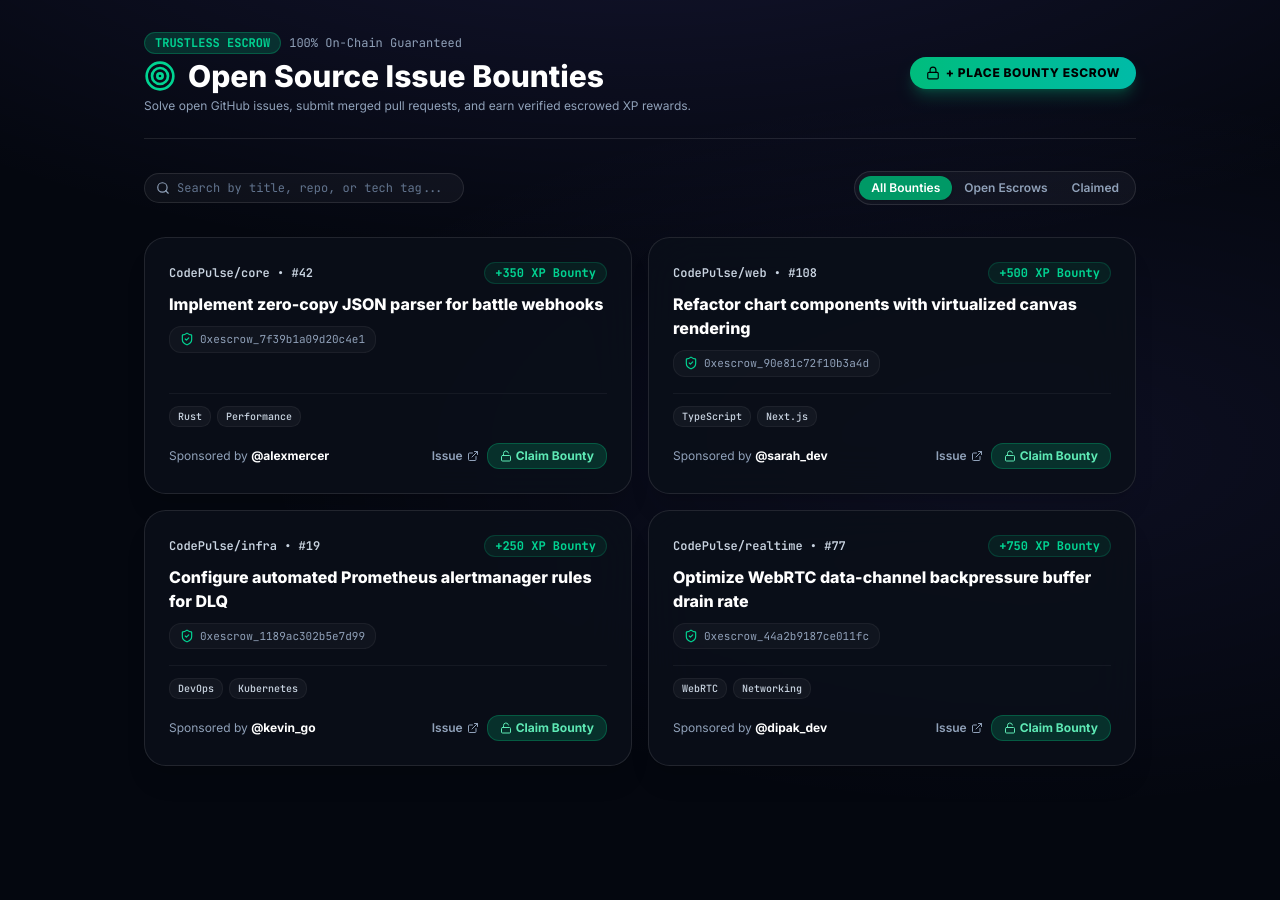
BountiesPage & BountyEscrowDrawer › opens pledge escrow drawer when clicking + Place Bounty button
Click the button with test id "open-place-bounty-btn": (1023, 73) [910,57,1136,89]
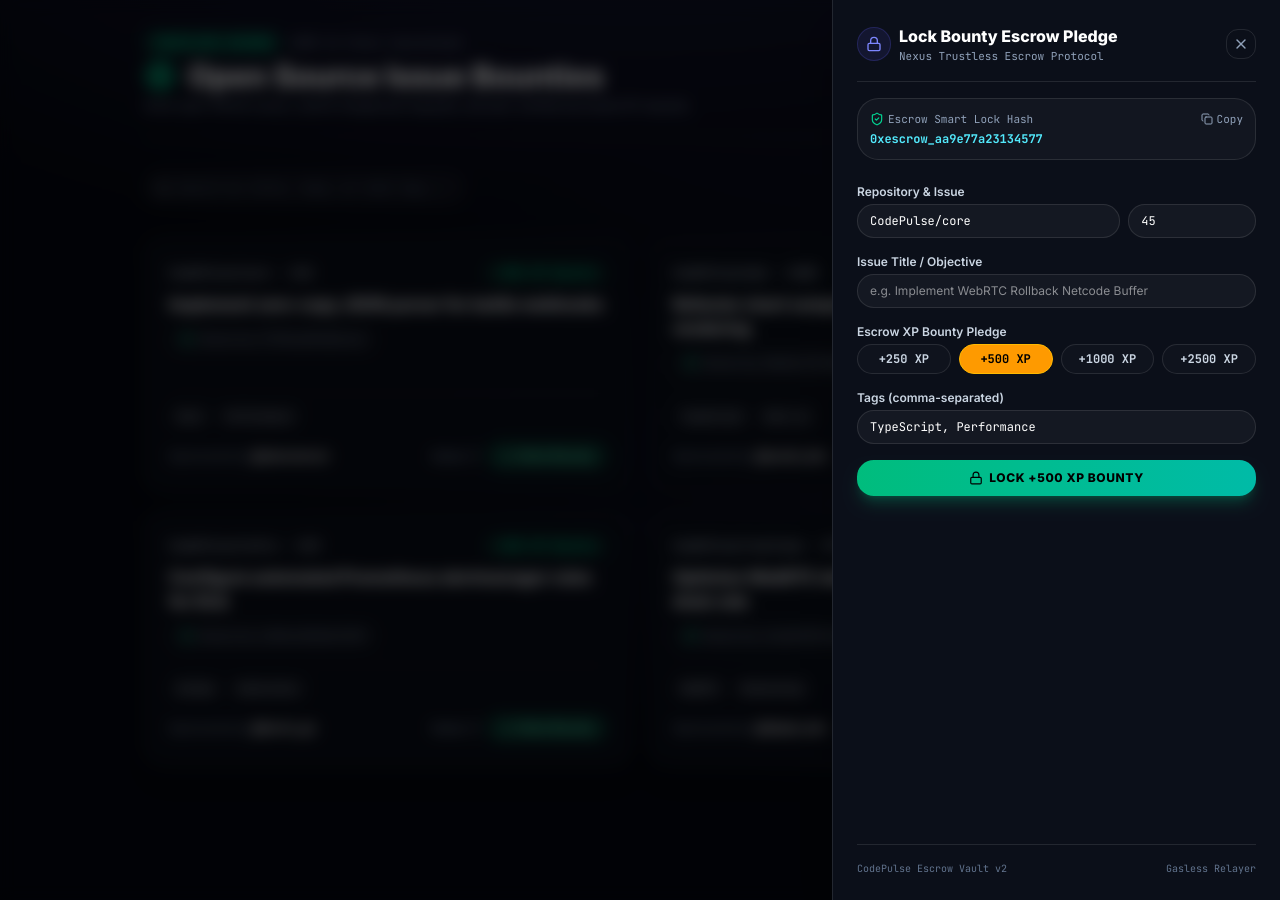
Expected: the element with test id "bounty-escrow-drawer" is shown, [832,0,1279,899]
Expected: the heading "Lock Bounty Escrow Pledge" is shown, [899,24,1118,48]
Expected: the text "0xescrow_aa9e77a23134577" is shown, [870,131,1043,147]
